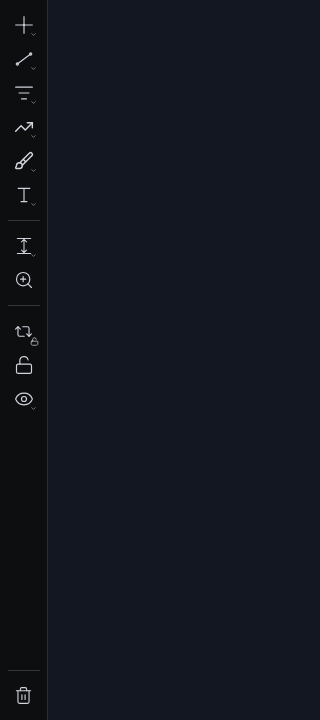
it: DrawingToolbar menus › exposes Projection and the complete Brushes tool set
The image size is (320, 720).
Click the button named "Projection tools". click: (24, 127)
box: [6, 110, 40, 144]
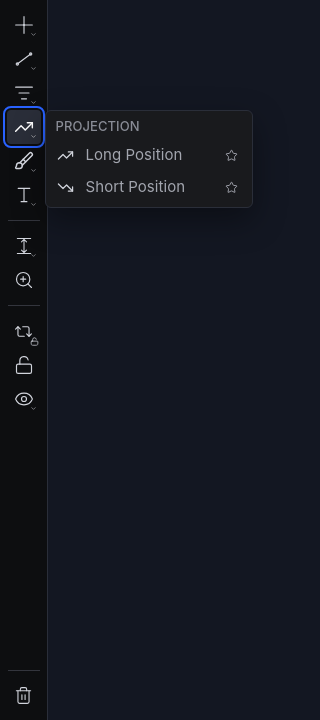
Expected: the menu items read "Long Position", "Short Position", in this order
Click the menu item "Short Position". click: (132, 187)
box: [50, 171, 216, 203]
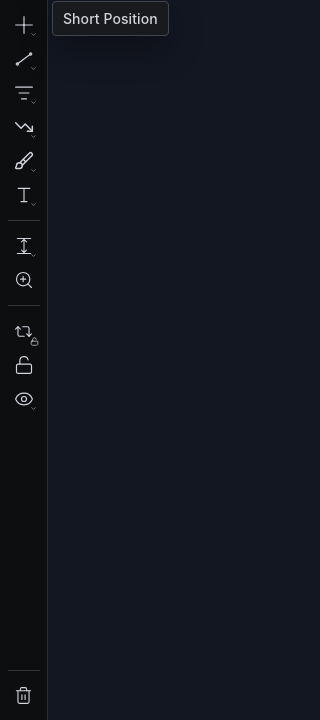
Click the button named "Brush tools". click: (24, 161)
box: [6, 144, 40, 178]
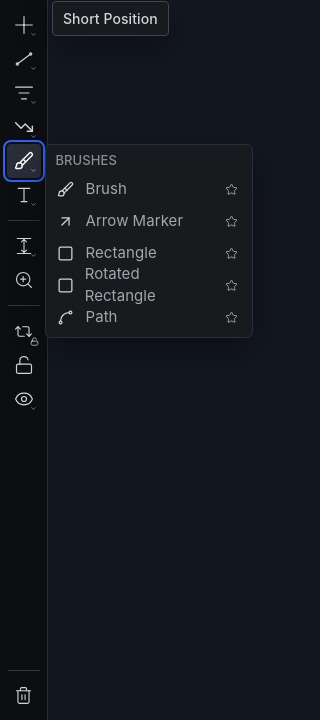
Expected: the menu items read "Brush", "Arrow Marker", "Rectangle", "Rotated Rectangle", "Path", in this order, [50, 173, 216, 205]; [50, 205, 216, 237]; [50, 237, 216, 269]; [50, 269, 216, 301]; [50, 301, 216, 333]
